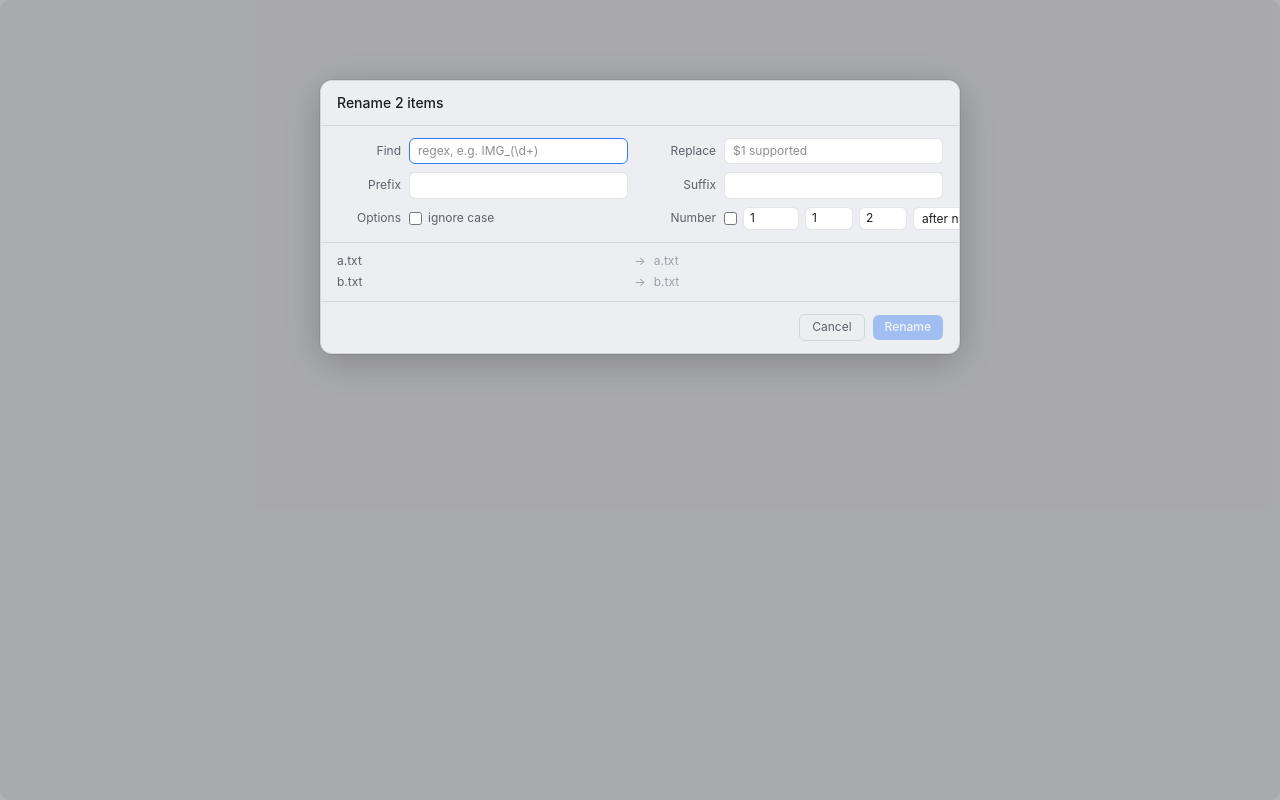
Test case: BatchRenameModal › a spec producing an illegal name keeps Apply blocked
Type "^a" into the field with placeholder "regex, e.g. IMG_(\\d+)" at coordinates (518, 151), box [409,138,628,164]
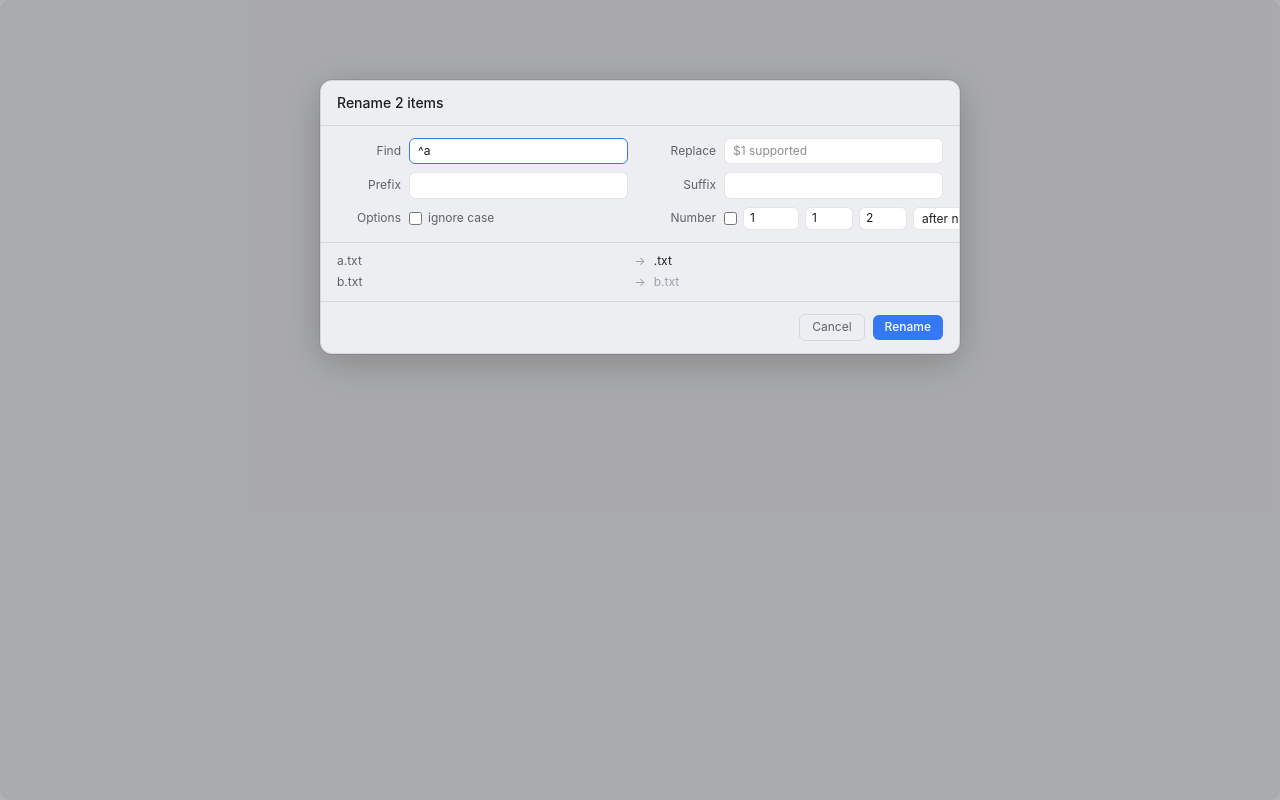
Type "a:" into the field with placeholder "$1 supported" at coordinates (834, 151), box [724,138,943,164]
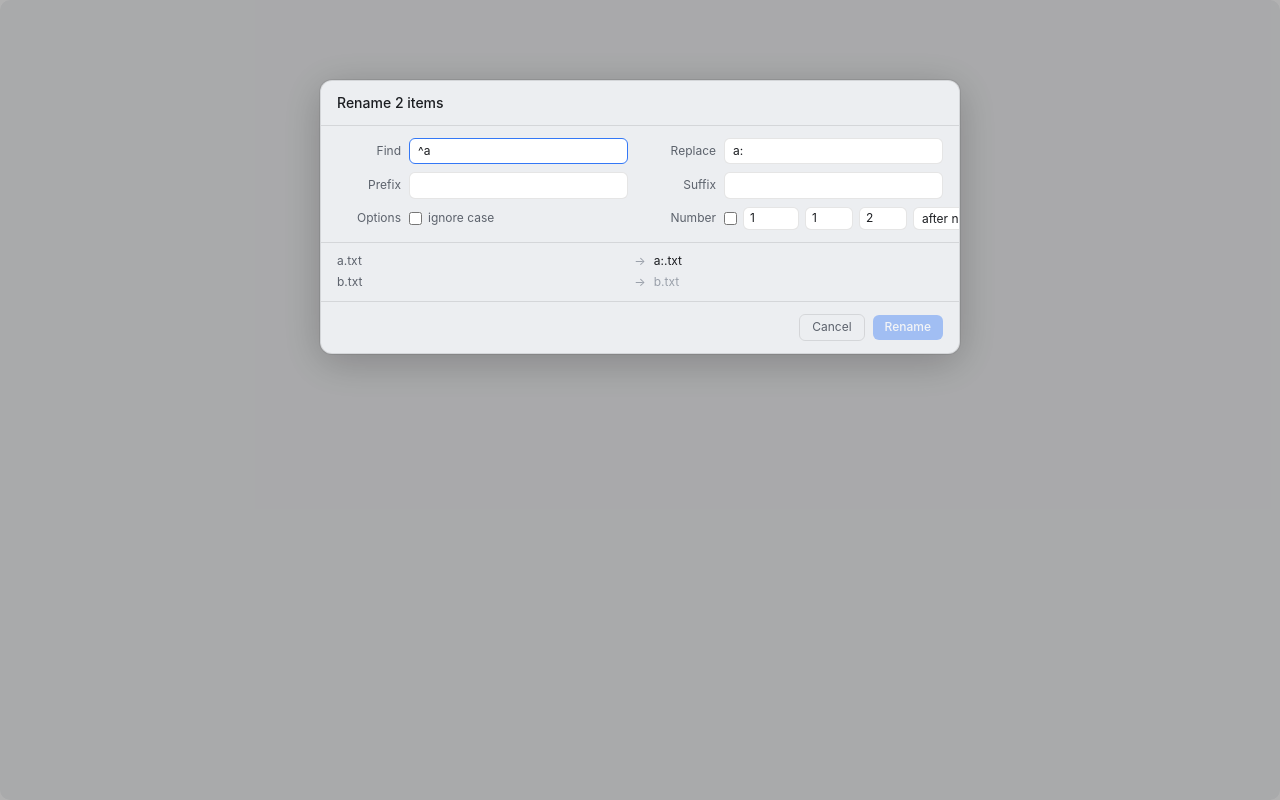
Check: the text with test id "preview-0" reads "a:.txt", box [654,253,682,268]
Check: the button "Rename" is disabled, box [873,315,943,340]
